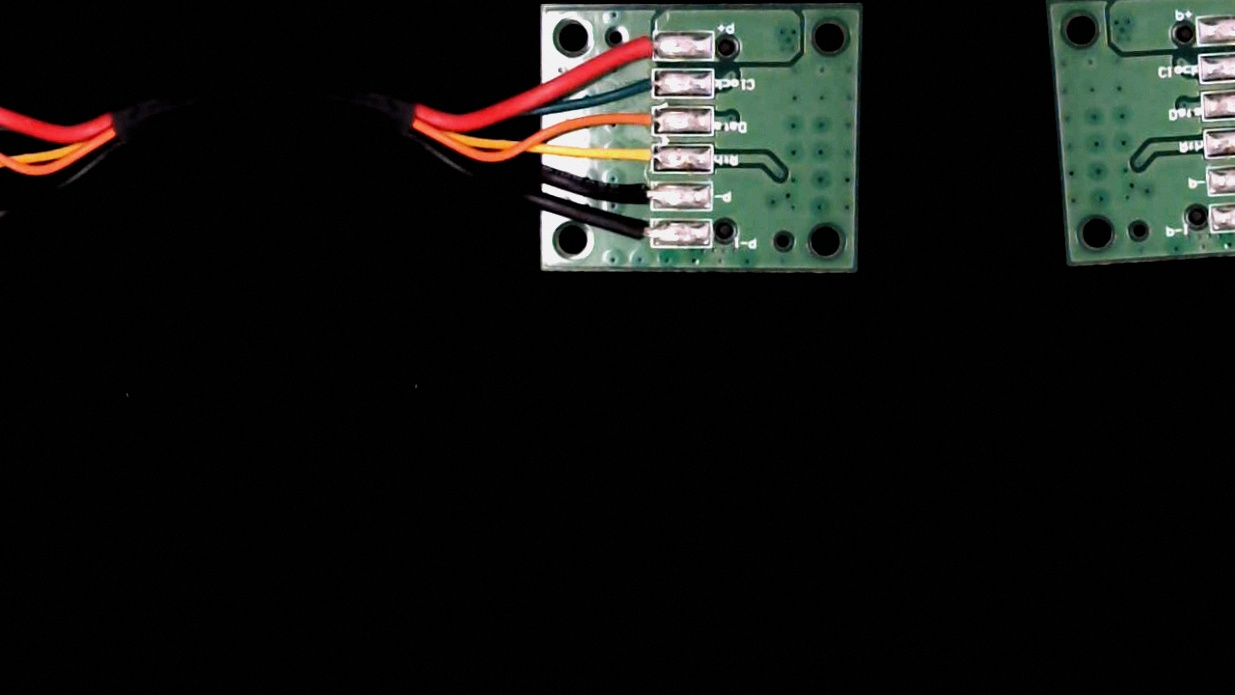Black: (609, 178, 666, 213)
Black1: (619, 219, 669, 250)
Green: (617, 68, 665, 100)
Orange: (604, 108, 668, 136)
Red: (608, 32, 666, 63)
Yellow: (601, 139, 670, 170)
